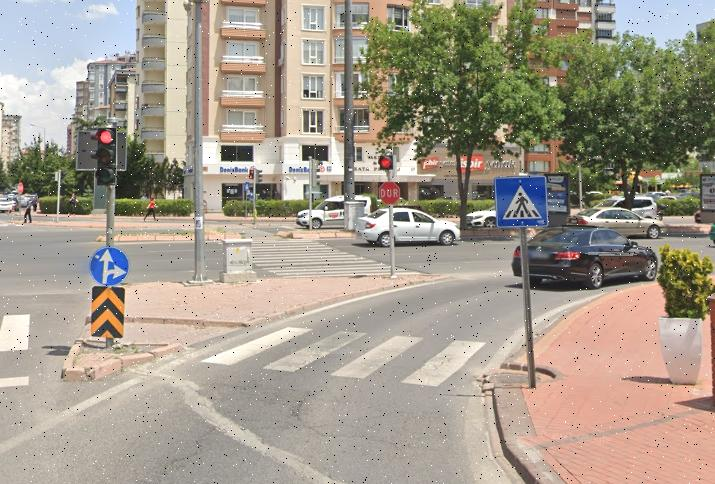redlight: (95, 128, 116, 185), (379, 155, 394, 171)
stop: (379, 182, 400, 204)
